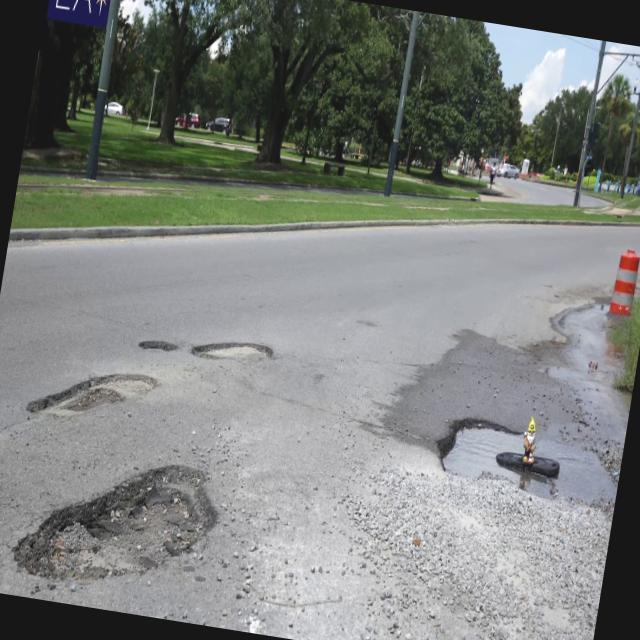bad-road: (9, 438, 228, 608), (428, 410, 625, 512), (24, 356, 160, 432), (190, 332, 276, 368), (139, 334, 181, 354)
